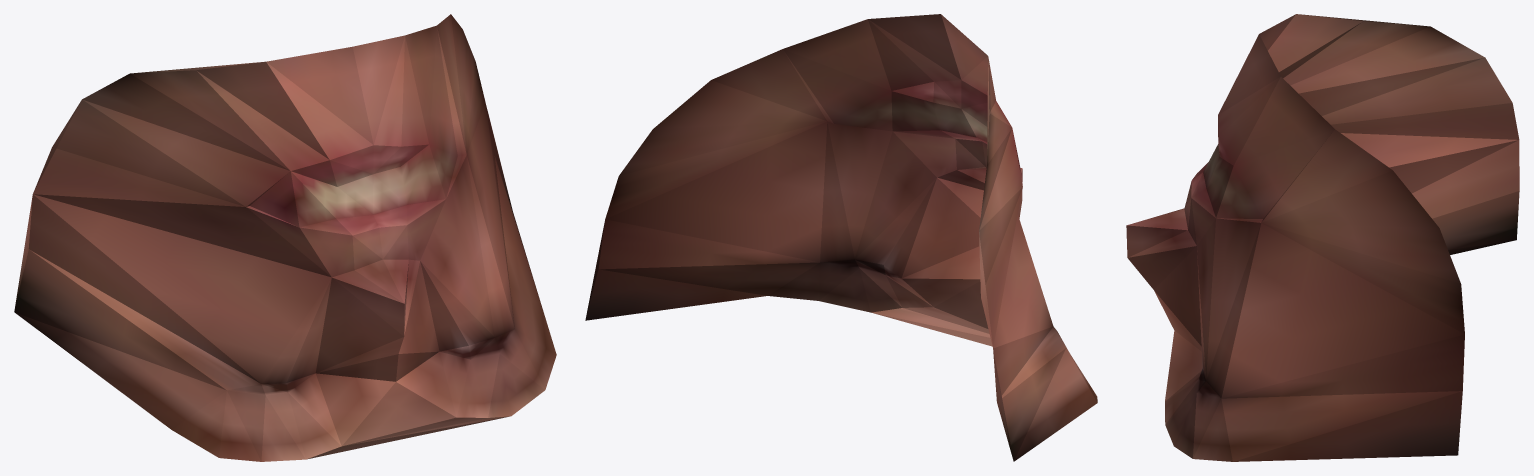
Rendered from fake_1408.obj.
3 views of the same model, side by side, from view 1: azimuth 30°, elevation 25°; view 2: azimuth 150°, elevation 25°; view 3: azimuth 270°, elevation 25° (orthographic). The views are drawn at different scales.
Bounding box in the file's own units: 118 × 88 × 87.74.
